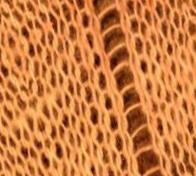slub: (90, 0, 165, 176)
